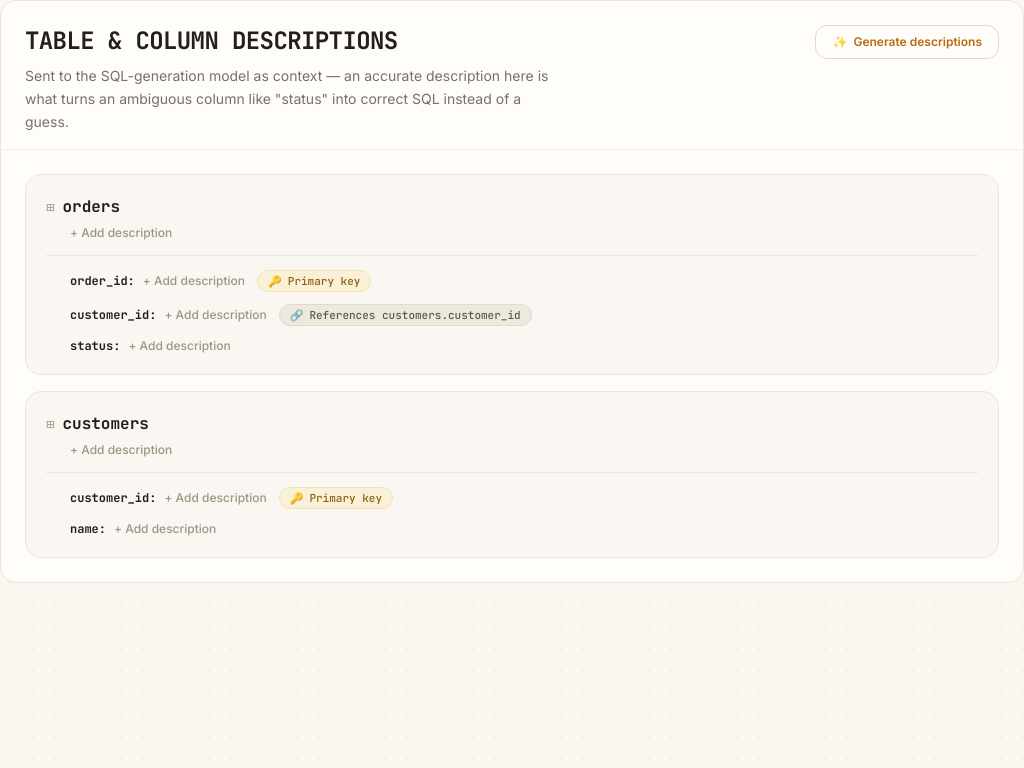
Test: DescribeModal — loading and error states › surfaces a generation failure without crashing
Step 1. Click the text "Generate descriptions" → [918, 42], box [853,34,982,50]
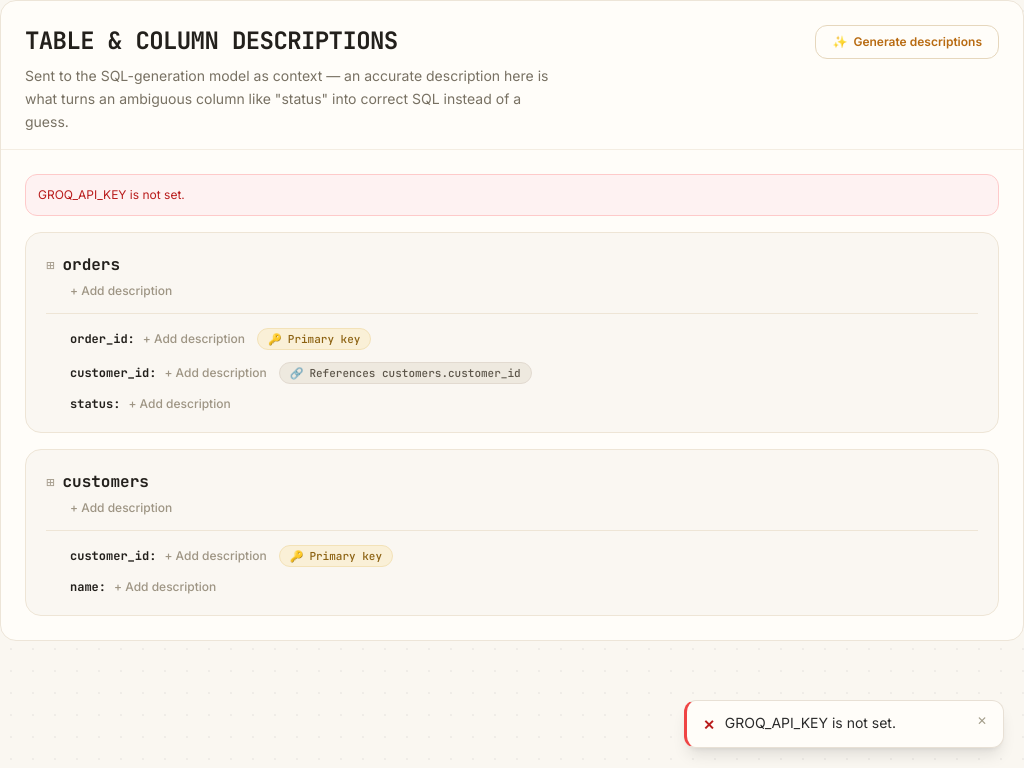
Result: the text "GROQ_API_KEY is not set." below "TABLE & COLUMN DESCRIPTIONS" is shown at [38,187,185,202]
